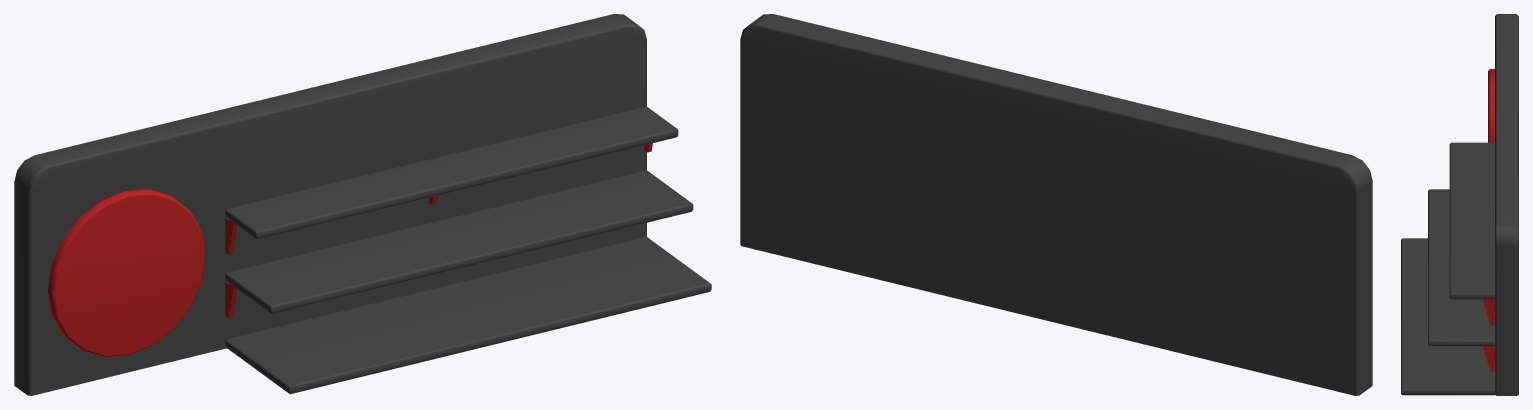
Rendered from Kedecap6x.fbx.
3 renders of one model, left to right at view 1: azimuth 30°, elevation 25°; view 2: azimuth 150°, elevation 25°; view 3: azimuth 270°, elevation 25°, orthographic. The views are drawn at different scales.
Parts seen in each view (by area): view 1: Tuong, Ke3, Ke2, Giatron, Ke1; view 2: Tuong; view 3: Tuong, Ke3, Ke1, Ke2, Giatron, Chanke6, Chanke5.
Part boxes in pixels (box(x1,y1,x2,y2)): Tuong: box(14, 14, 646, 395); Ke3: box(225, 237, 711, 394); Ke2: box(225, 170, 693, 314); Giatron: box(48, 189, 205, 357); Ke1: box(225, 106, 678, 239); Tuong: box(740, 14, 1372, 395); Tuong: box(1495, 14, 1518, 395); Ke3: box(1401, 238, 1494, 395); Ke1: box(1449, 142, 1494, 299); Ke2: box(1428, 189, 1494, 346); Giatron: box(1488, 69, 1494, 142); Chanke6: box(1483, 299, 1494, 325); Chanke5: box(1483, 346, 1494, 371).
Bounding box in the file's own units: 1508 × 525 × 338.
